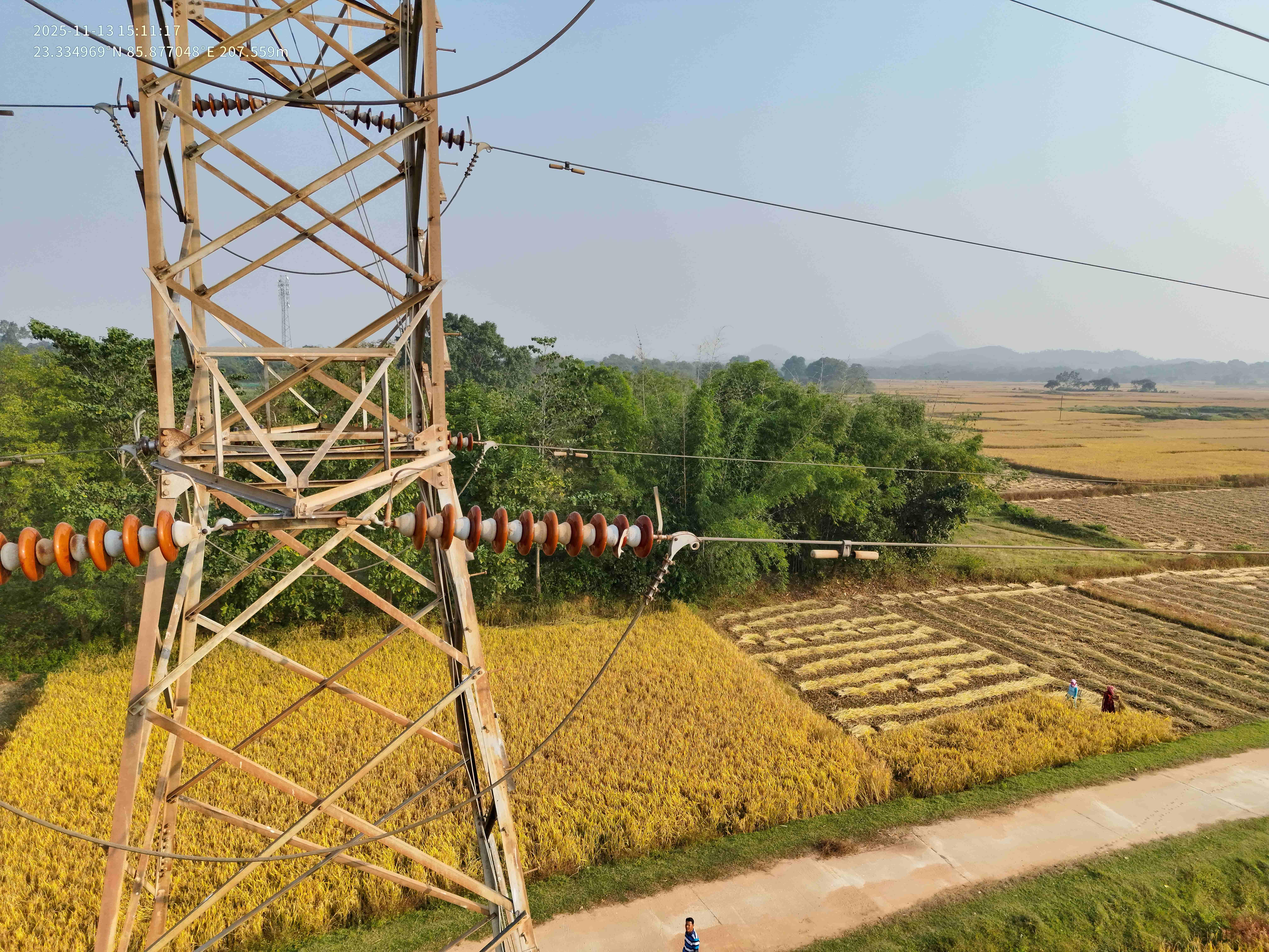broken_insulator: (613, 514, 631, 561), (366, 107, 372, 130)
